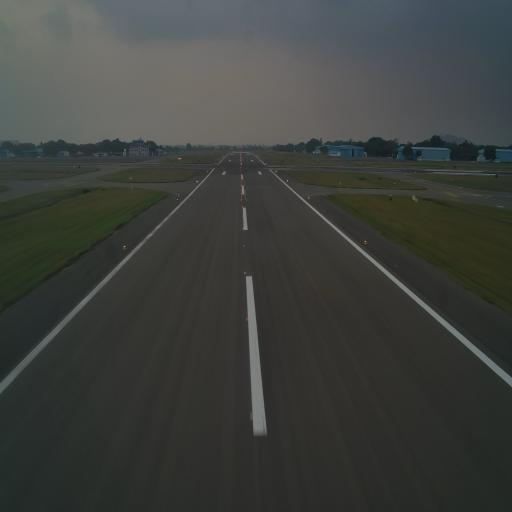on: (249, 410, 255, 422), (244, 314, 250, 324), (122, 243, 127, 251), (363, 239, 367, 245), (242, 244, 246, 249), (242, 226, 244, 232), (244, 270, 246, 275)
